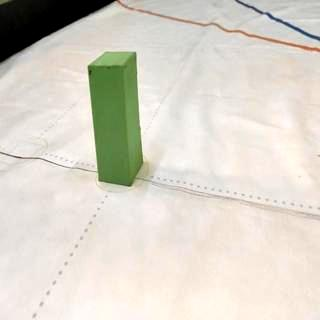greenbox: (88, 50, 143, 186)
